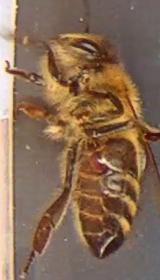varroa_mite: (86, 147, 114, 178)
